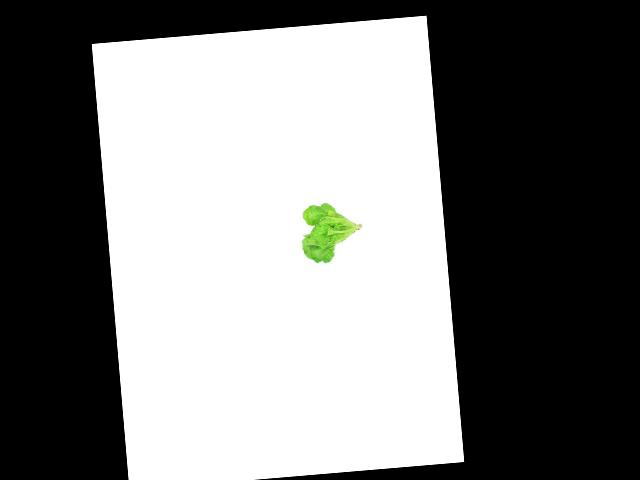lettuce: (295, 197, 366, 268)
